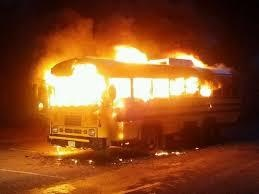fire: (38, 43, 216, 110)
